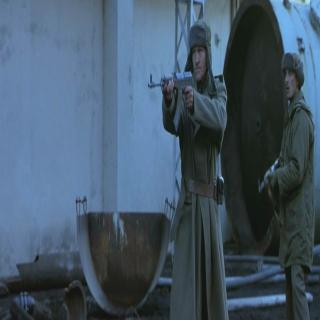gun: (148, 61, 197, 119)
